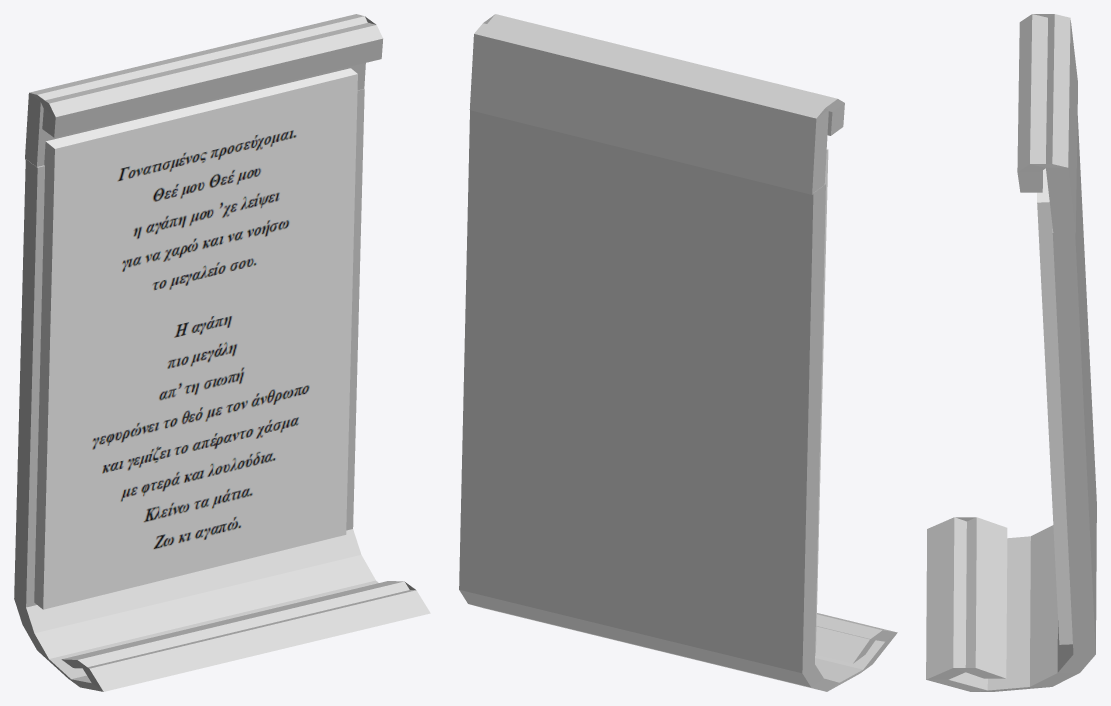
Rendered from paper_last_scene.fbx.
3 renders of one model, left to right at view 1: azimuth 30°, elevation 25°; view 2: azimuth 150°, elevation 25°; view 3: azimuth 270°, elevation 25°, orthographic. The views are drawn at different scales.
Visible parts, largest first — view 1: Plane.003; view 2: Plane.003; view 3: Plane.003.
Boxes of the visible parts, box(x1,y1,x2,y2) form: Plane.003: box(14, 14, 430, 691); Plane.003: box(459, 14, 897, 691); Plane.003: box(926, 14, 1096, 691).
Bounding box in the file's own units: 72.96 × 119 × 34.99.
2 materials, 1 textured.
